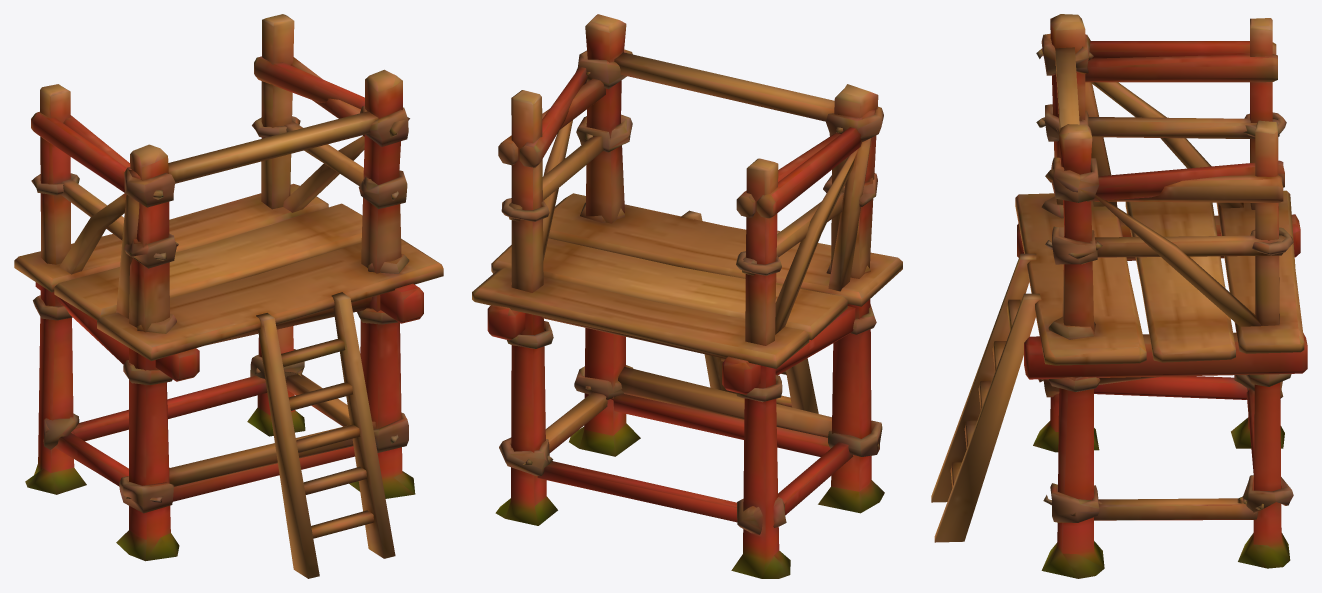
File: wyn_outpost_hearthwright_scaffold.glb
3 renders of one model, left to right at view 1: azimuth 30°, elevation 25°; view 2: azimuth 150°, elevation 25°; view 3: azimuth 270°, elevation 25°, orthographic. The views are drawn at different scales.
Visible parts, largest first — view 1: tripo_node_97336a8e-6bf8-49da-9a1b-0fb47a705537; view 2: tripo_node_97336a8e-6bf8-49da-9a1b-0fb47a705537; view 3: tripo_node_97336a8e-6bf8-49da-9a1b-0fb47a705537.
Boxes of the visible parts, box(x1,y1,x2,y2) form: tripo_node_97336a8e-6bf8-49da-9a1b-0fb47a705537: box(14, 14, 443, 578); tripo_node_97336a8e-6bf8-49da-9a1b-0fb47a705537: box(472, 14, 902, 578); tripo_node_97336a8e-6bf8-49da-9a1b-0fb47a705537: box(931, 14, 1307, 578).
Size of the model in its own units: 2.38 by 3 by 2.31.
1 material, 1 textured.
